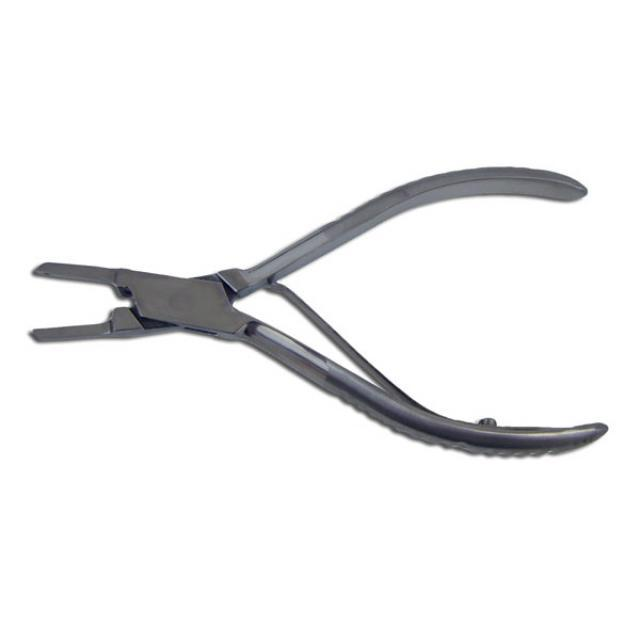pliers: (22, 156, 613, 468)
